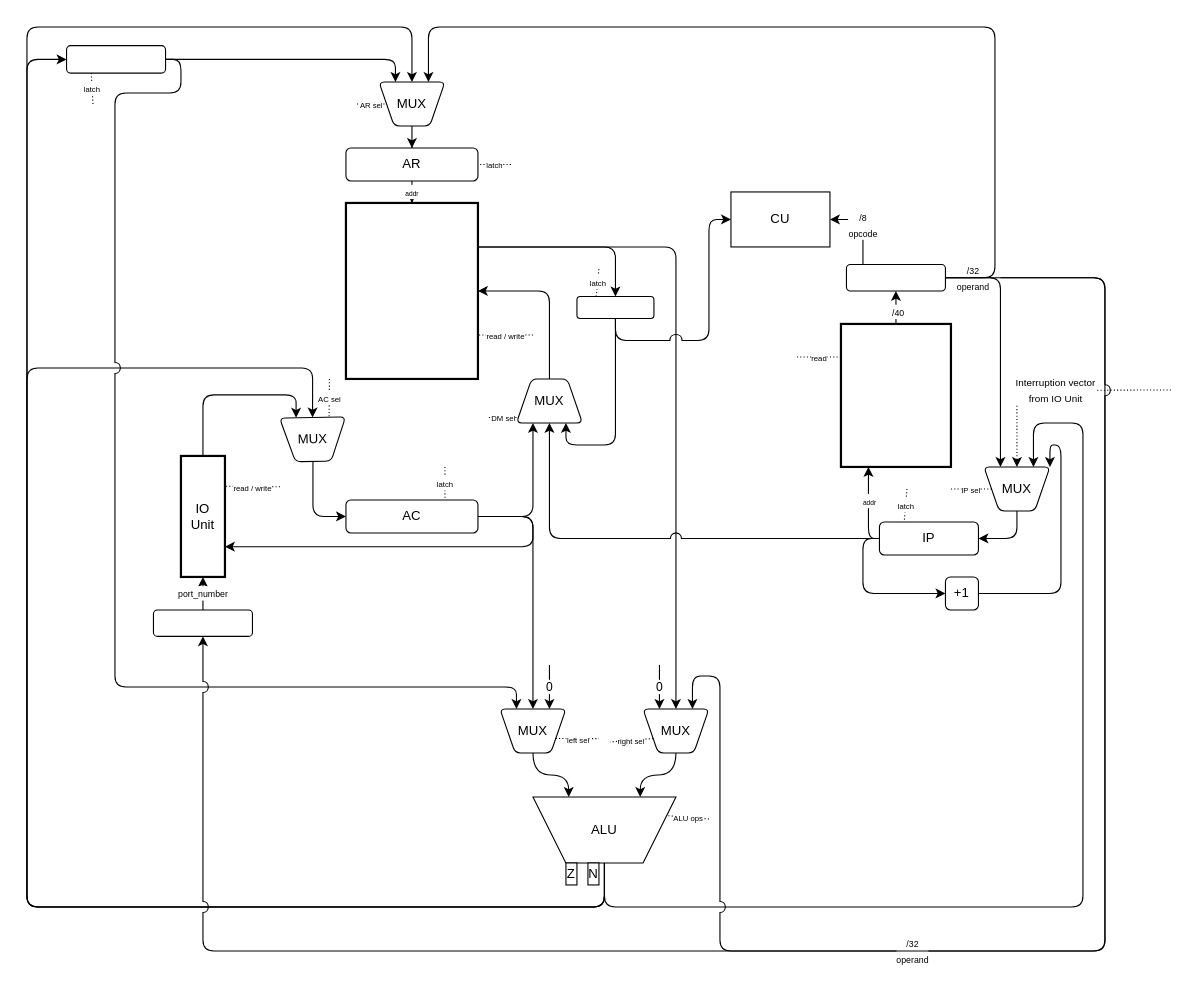
The diagram is 1199 pixels wide and 985 high, and some of its shapes have lost their labels. The centre of each missing label's shape, as x and y in pixels:
DATA MEM: point 411,290
INSTR MEM: point 895,395
IO_ADDR: point 202,622
IR [39:0]: point 895,277
PS: point 615,306
SP: point 115,59
